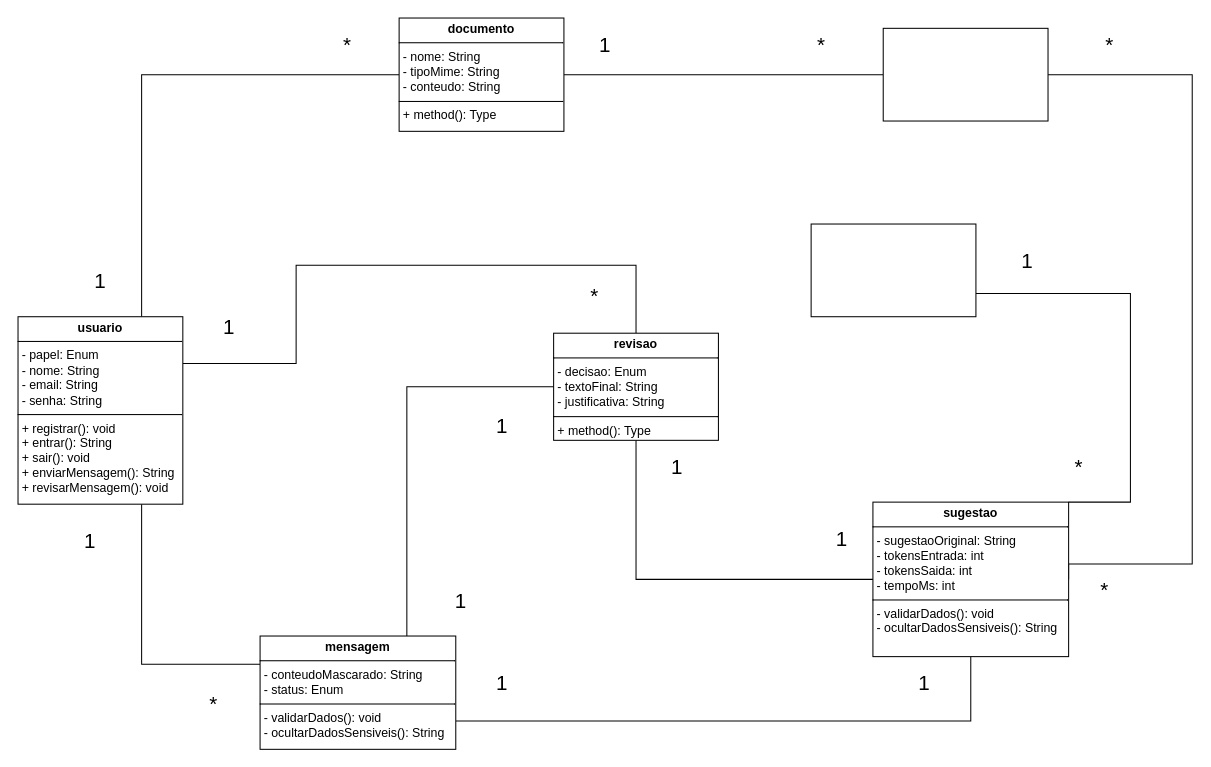
This 1211x767 diagram has some shape labels left out. The shapes that lost their labels are listed below. From the top down, each one's centre as x and y in pixels, then its label:
pixel 965 74: trechoDocumento - posicao: int - conteudo: String + method(): Type
pixel 893 270: modeloIA - nome: String - versao: String + method(): Type
